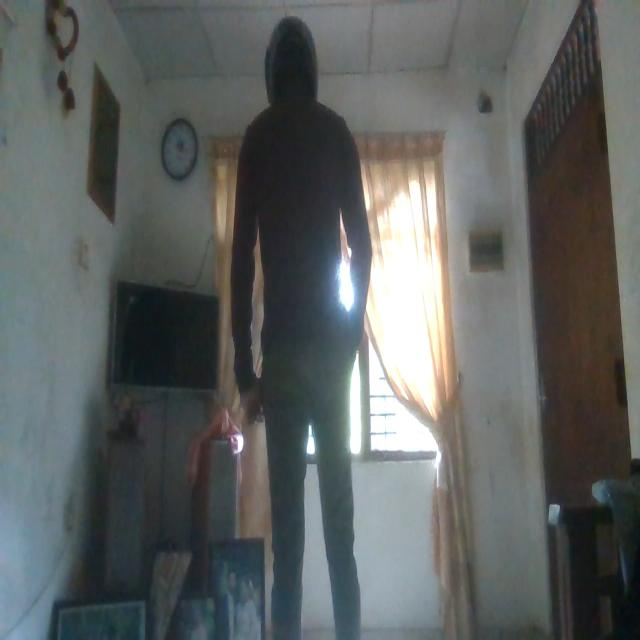Helmet_Wearer: (249, 14, 333, 126)
Person: (229, 19, 377, 640)
